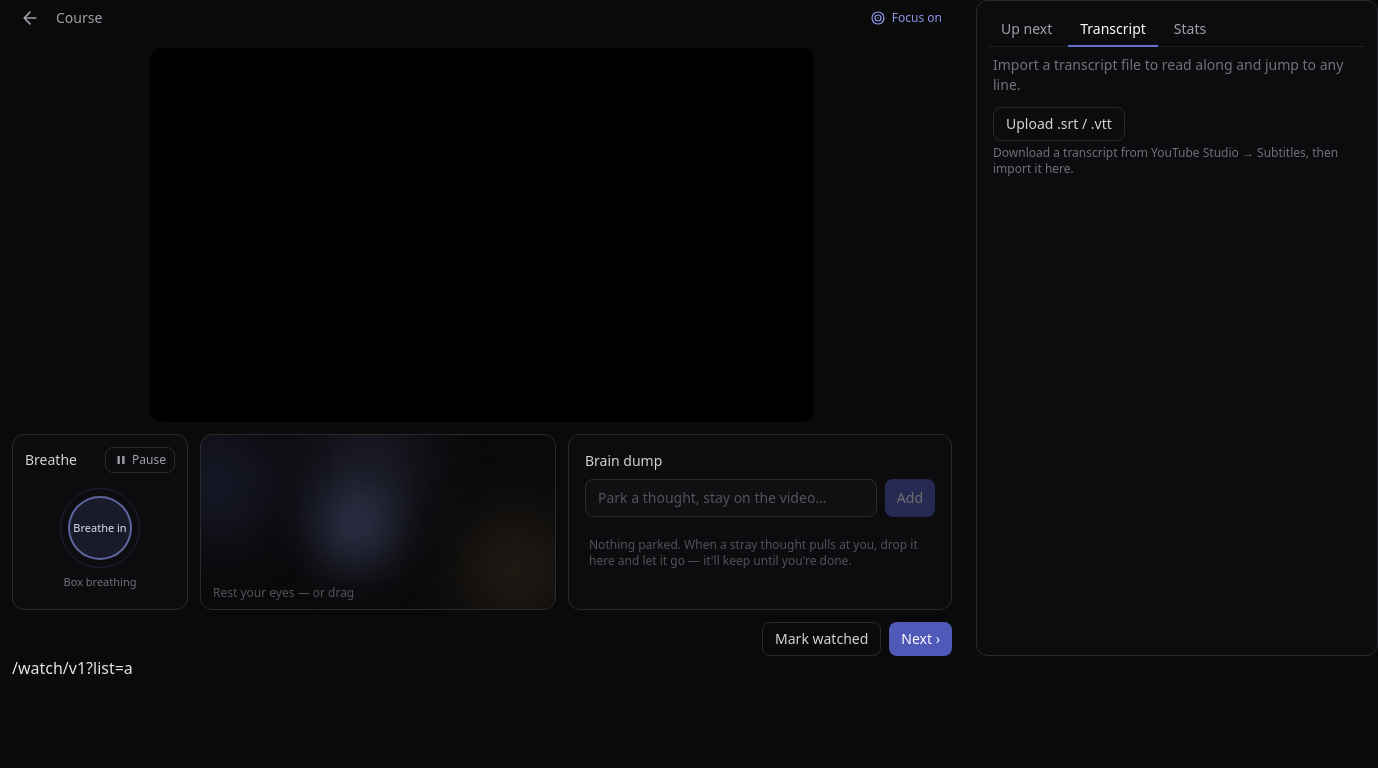
the queue › Next skips ahead without marking the current video watched
Click the button "Next ›" at point(921, 639), box [889,622,952,656]
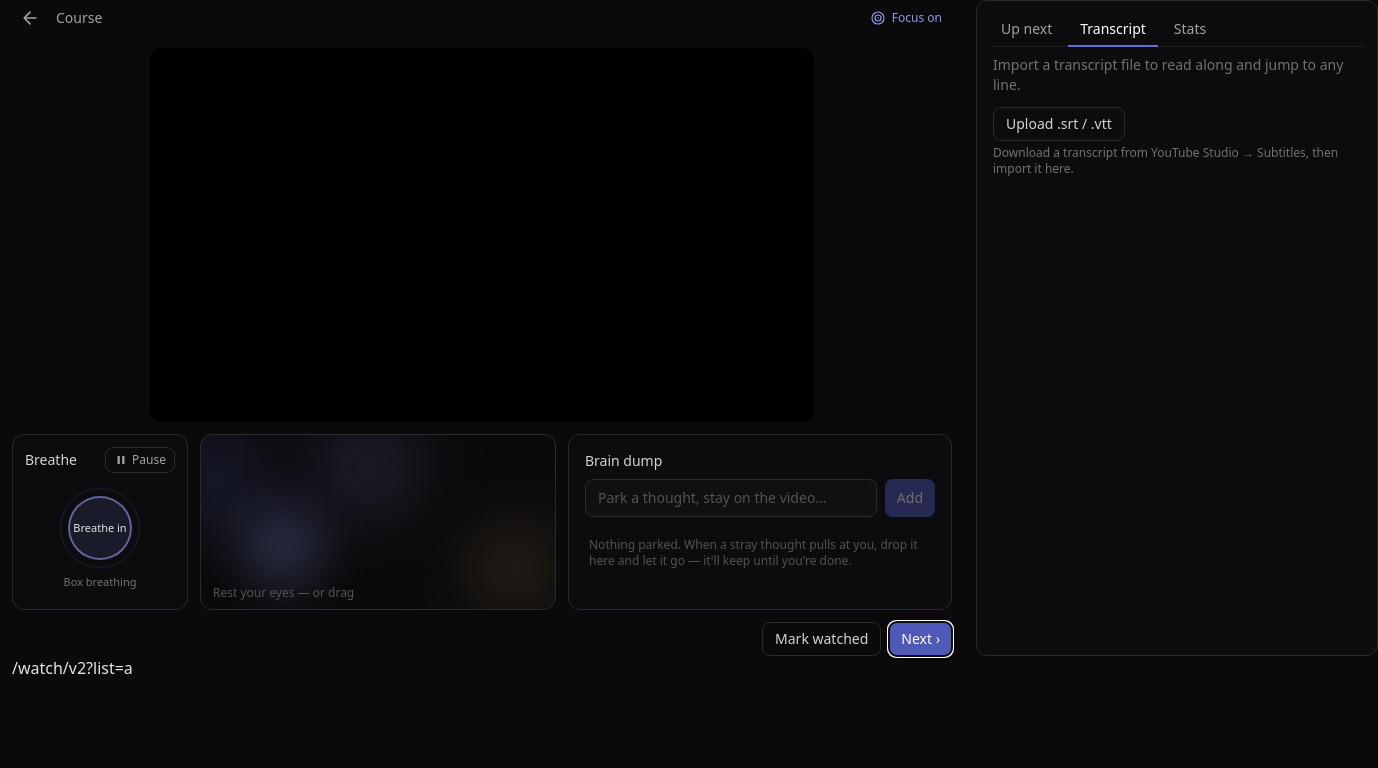
Now the text with test id "location" reads "/watch/v2?list=a", box [12,657,133,679]
